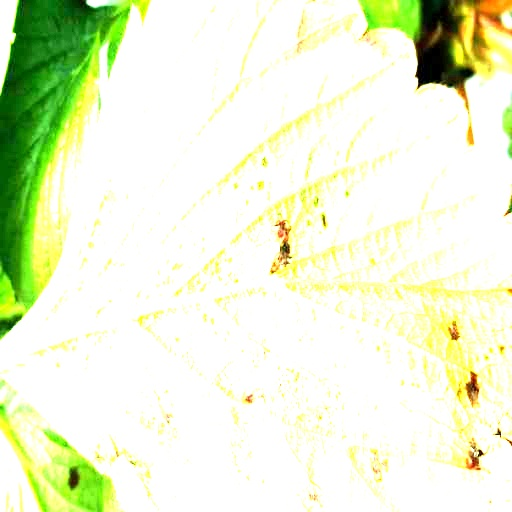Angular Leafspot: (0, 0, 511, 511)
